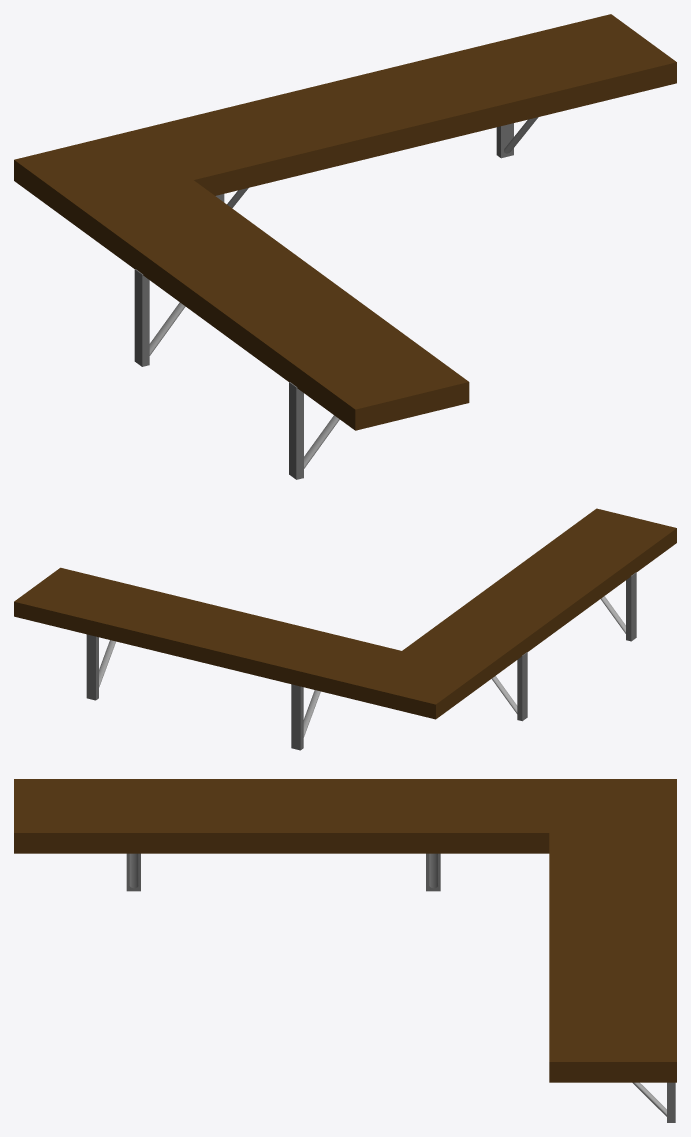
The model's file is Shelf.fbx.
3 views of the same model, one above another, from view 1: azimuth 30°, elevation 25°; view 2: azimuth 150°, elevation 25°; view 3: azimuth 270°, elevation 25° (orthographic). The views are drawn at different scales.
Parts seen in each view (by area): view 1: Shelf; view 2: Shelf; view 3: Shelf.
Part boxes in pixels (x1,y1,x2,y2): Shelf: [14, 14, 676, 479]; Shelf: [14, 508, 676, 750]; Shelf: [14, 779, 676, 1122].
Size of the model in its own units: 5.67 by 1.02 by 5.61.
